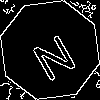N: (25, 25, 79, 83)
